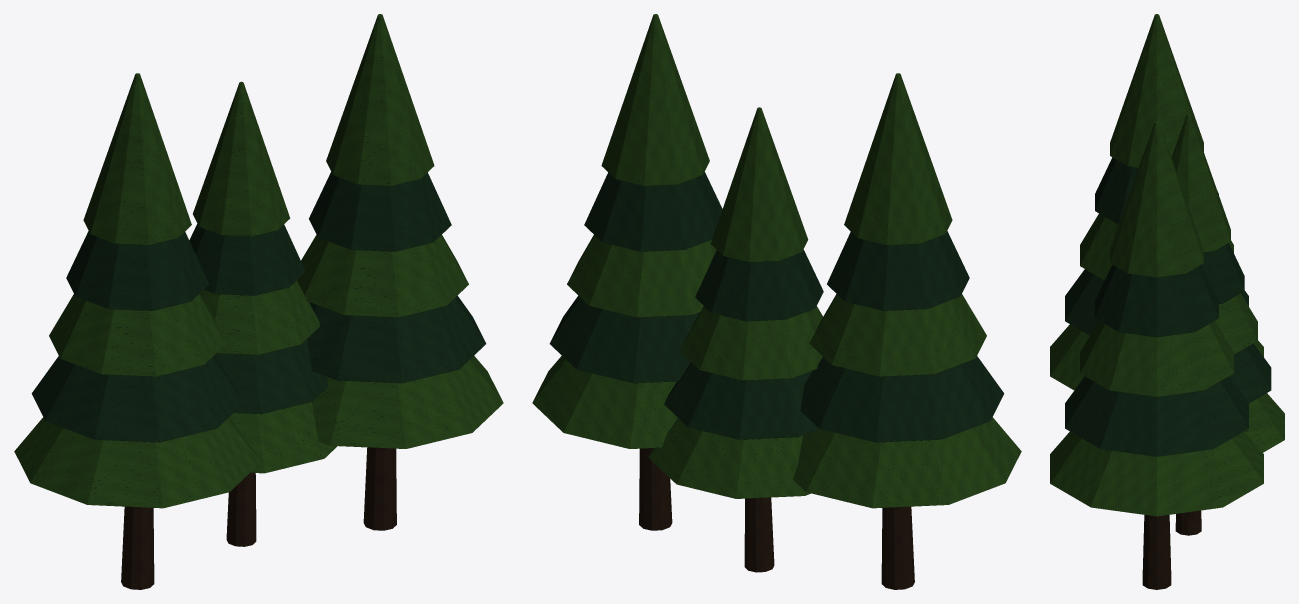
The model's file is PROP-97E77F35FC57_lod1.glb.
3 renders of one model, left to right at view 1: azimuth 30°, elevation 25°; view 2: azimuth 150°, elevation 25°; view 3: azimuth 270°, elevation 25°, orthographic. The views are drawn at different scales.
Visible parts, largest first — view 1: layered_conifer_crown.014, layered_conifer_crown.015, trunk.008; view 2: layered_conifer_crown.014, layered_conifer_crown.015, trunk.008; view 3: layered_conifer_crown.014, layered_conifer_crown.015, trunk.008.
Boxes of the visible parts, bbox=[...] form: layered_conifer_crown.014: bbox=[14, 14, 503, 508]; layered_conifer_crown.015: bbox=[31, 172, 486, 442]; trunk.008: bbox=[121, 447, 396, 589]; layered_conifer_crown.014: bbox=[532, 14, 1021, 508]; layered_conifer_crown.015: bbox=[549, 172, 1004, 442]; trunk.008: bbox=[639, 448, 914, 589]; layered_conifer_crown.014: bbox=[1050, 14, 1284, 516]; layered_conifer_crown.015: bbox=[1065, 157, 1271, 456]; trunk.008: bbox=[1142, 510, 1201, 589].
Size of the model in its own units: 7.55 by 8.03 by 3.7.
3 materials, 3 textured.
